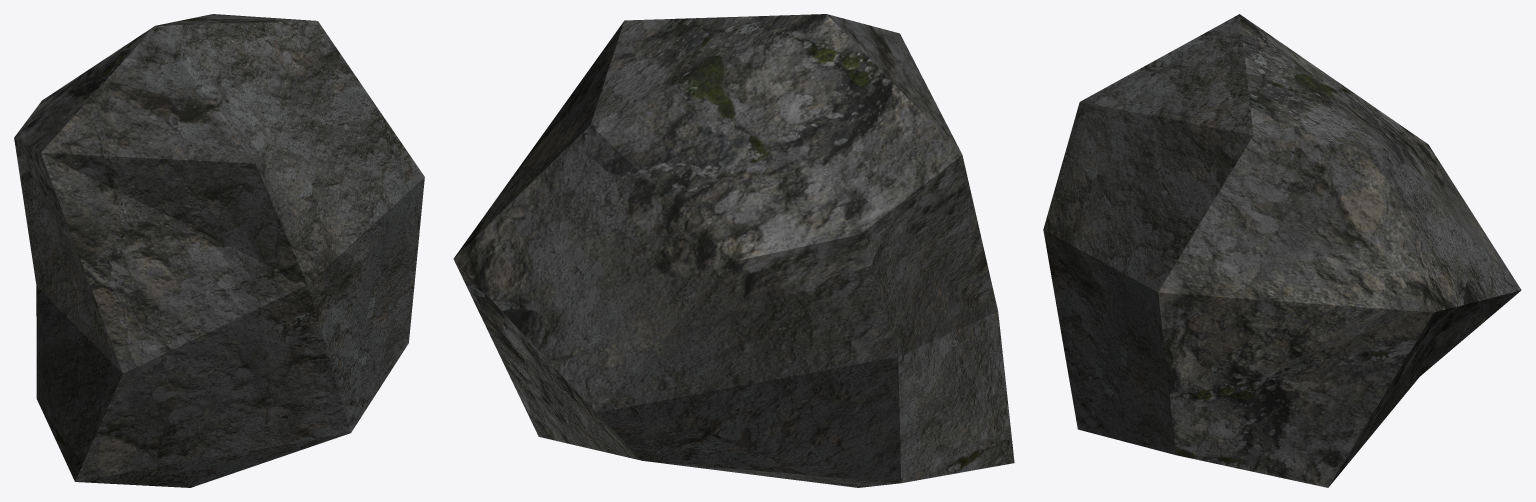
Rendered from Rock_9.fbx.
3 renders of one model, left to right at view 1: azimuth 30°, elevation 25°; view 2: azimuth 150°, elevation 25°; view 3: azimuth 270°, elevation 25°, orthographic. The views are drawn at different scales.
Parts seen in each view (by area): view 1: Rock_9; view 2: Rock_9; view 3: Rock_9.
Part boxes in pixels (bbox=[...]): Rock_9: bbox=[14, 14, 424, 487]; Rock_9: bbox=[453, 14, 1014, 487]; Rock_9: bbox=[1043, 14, 1521, 487].
Size of the model in its own units: 105 by 126 by 128.
